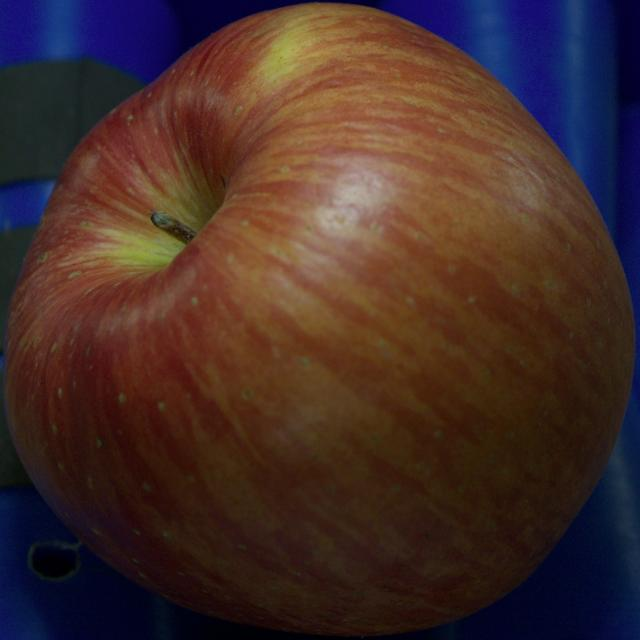apple: (5, 4, 634, 635)
